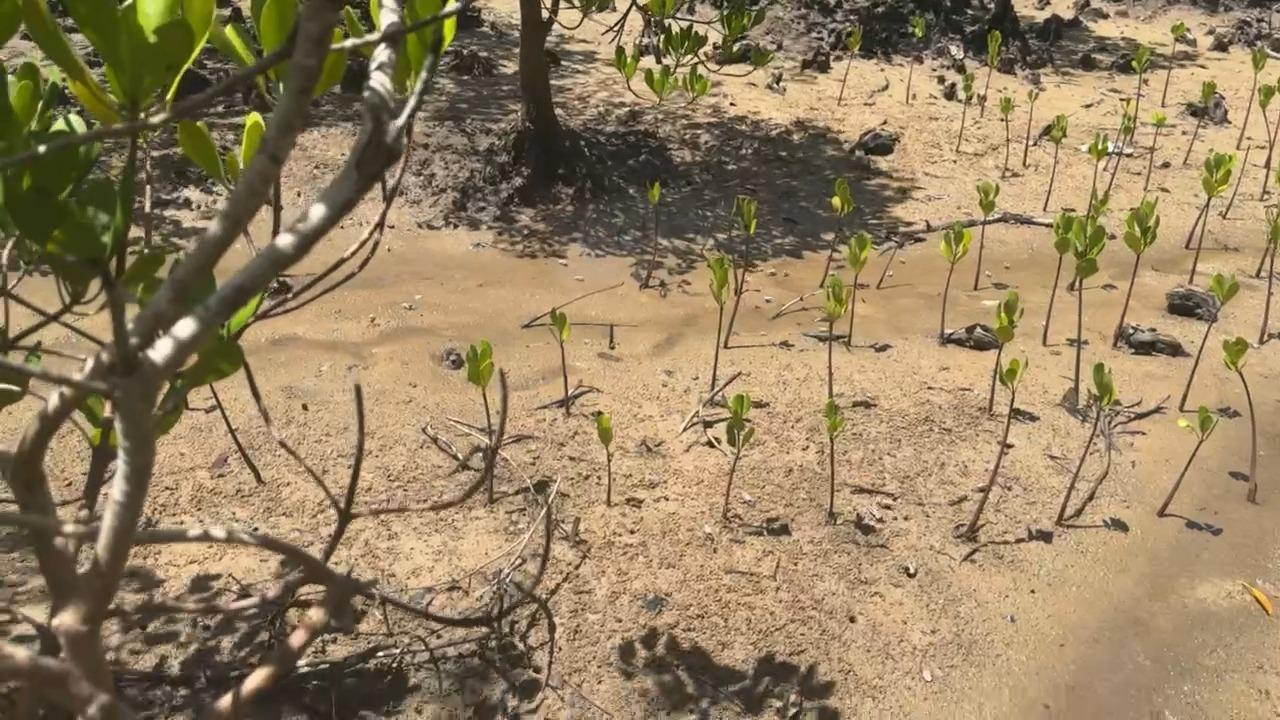Tree: (963, 356, 1029, 533), (1055, 361, 1114, 523), (1180, 272, 1240, 412), (1068, 213, 1108, 402), (1110, 194, 1160, 345), (1158, 406, 1220, 517), (1188, 151, 1233, 285), (1221, 337, 1257, 502), (1185, 150, 1236, 251), (467, 339, 498, 503), (723, 195, 756, 349), (813, 276, 851, 400), (1065, 190, 1110, 293), (1043, 210, 1076, 348), (987, 289, 1024, 410), (721, 390, 753, 512), (704, 252, 732, 390), (821, 179, 854, 288), (940, 222, 971, 333), (1236, 45, 1265, 148), (1182, 80, 1216, 166), (845, 230, 869, 346), (1259, 212, 1280, 343), (975, 182, 1001, 287), (821, 398, 843, 513), (550, 308, 574, 413), (1044, 112, 1068, 211), (1131, 44, 1155, 141), (1103, 97, 1133, 169), (838, 23, 863, 106), (1085, 131, 1109, 216), (644, 183, 664, 283), (1162, 22, 1185, 107), (1110, 111, 1135, 189), (1143, 112, 1168, 188), (1226, 146, 1252, 218), (1255, 85, 1270, 200), (1255, 207, 1280, 276), (596, 412, 614, 507), (981, 28, 1000, 117), (1263, 76, 1280, 167), (907, 17, 924, 104), (998, 96, 1016, 178), (721, 211, 738, 293), (957, 73, 971, 149), (1024, 89, 1038, 164), (877, 245, 900, 288)
